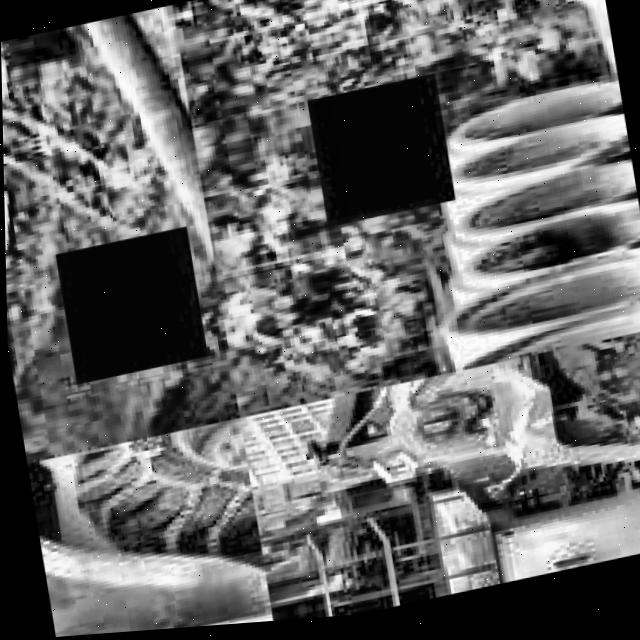buldozerpayloadergrader: (237, 338, 640, 627)
dump_truck: (171, 0, 619, 184), (238, 392, 406, 581)
